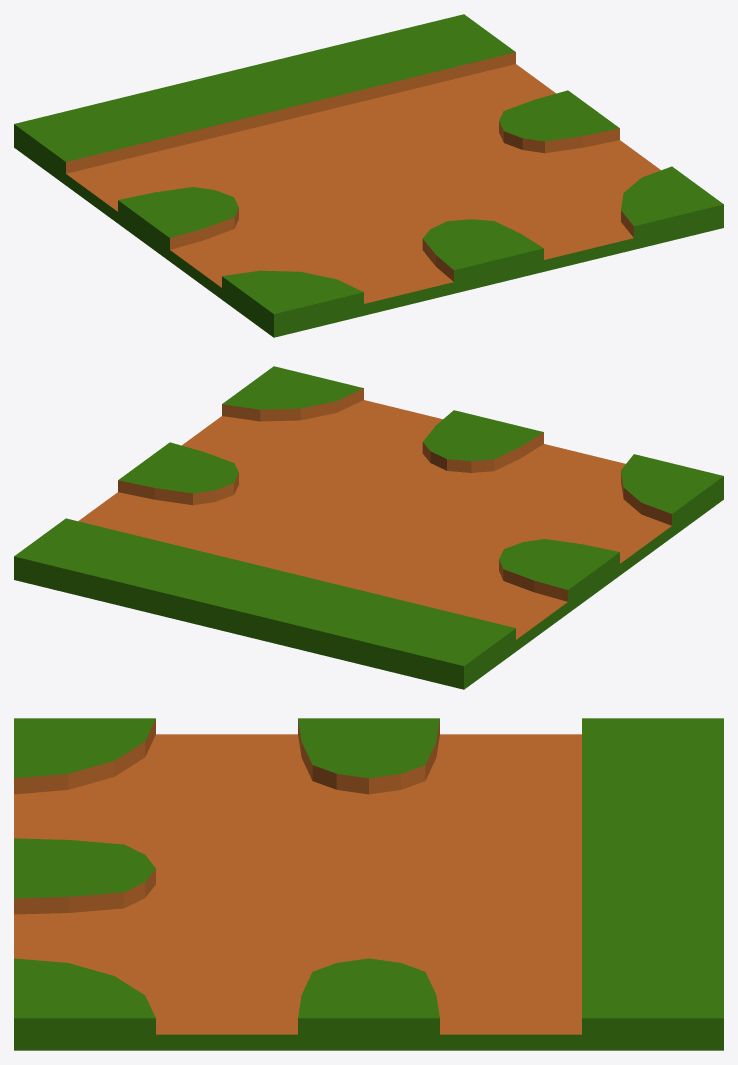
File: Tile_Grass_Road_T.fbx
3 views of the same model, one above another, from view 1: azimuth 30°, elevation 25°; view 2: azimuth 150°, elevation 25°; view 3: azimuth 270°, elevation 25° (orthographic). The views are drawn at different scales.
Visible parts, largest first — view 1: Tile_Grass_Road_T; view 2: Tile_Grass_Road_T; view 3: Tile_Grass_Road_T.
Boxes of the visible parts, x1,y1,x2,y2 form: Tile_Grass_Road_T: (14, 14, 723, 337); Tile_Grass_Road_T: (14, 366, 723, 689); Tile_Grass_Road_T: (14, 718, 723, 1050).
Size of the model in its own units: 100 by 5 by 100.
